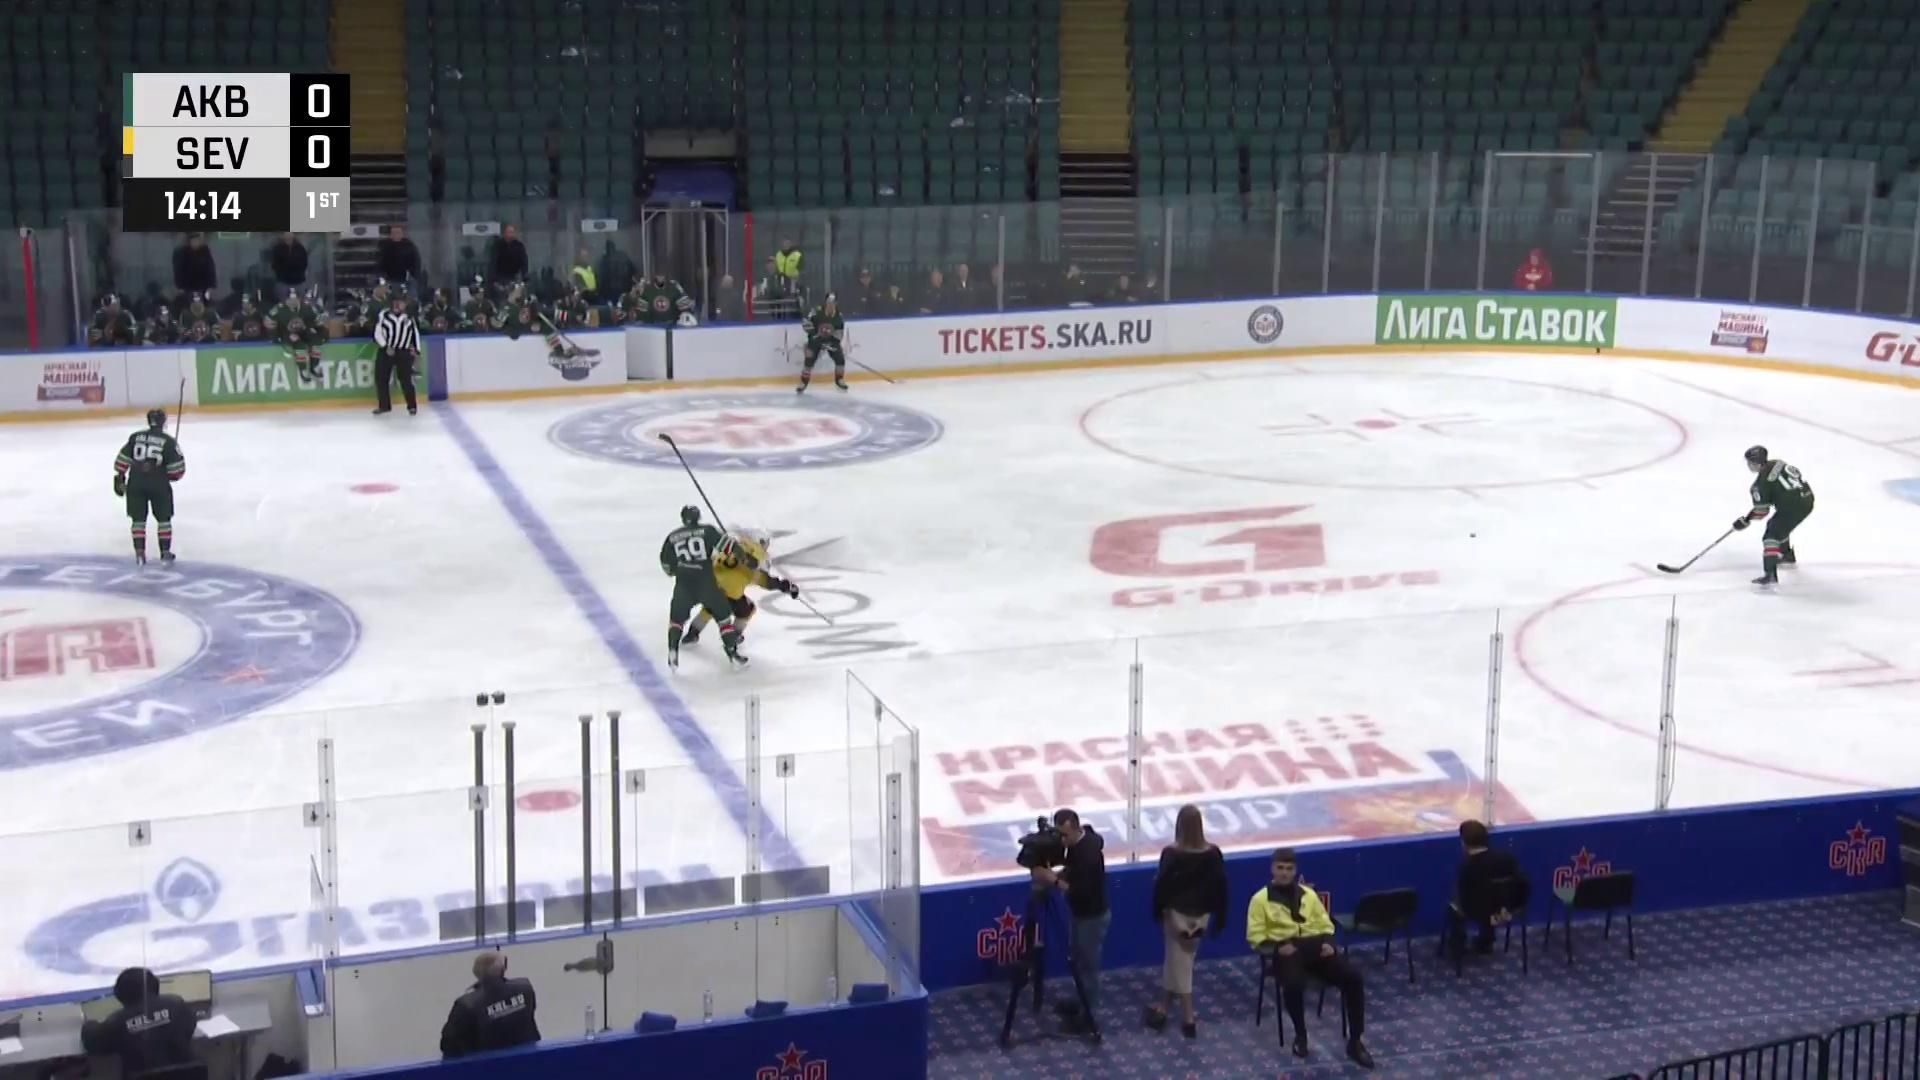ball: (1469, 531, 1477, 539)
